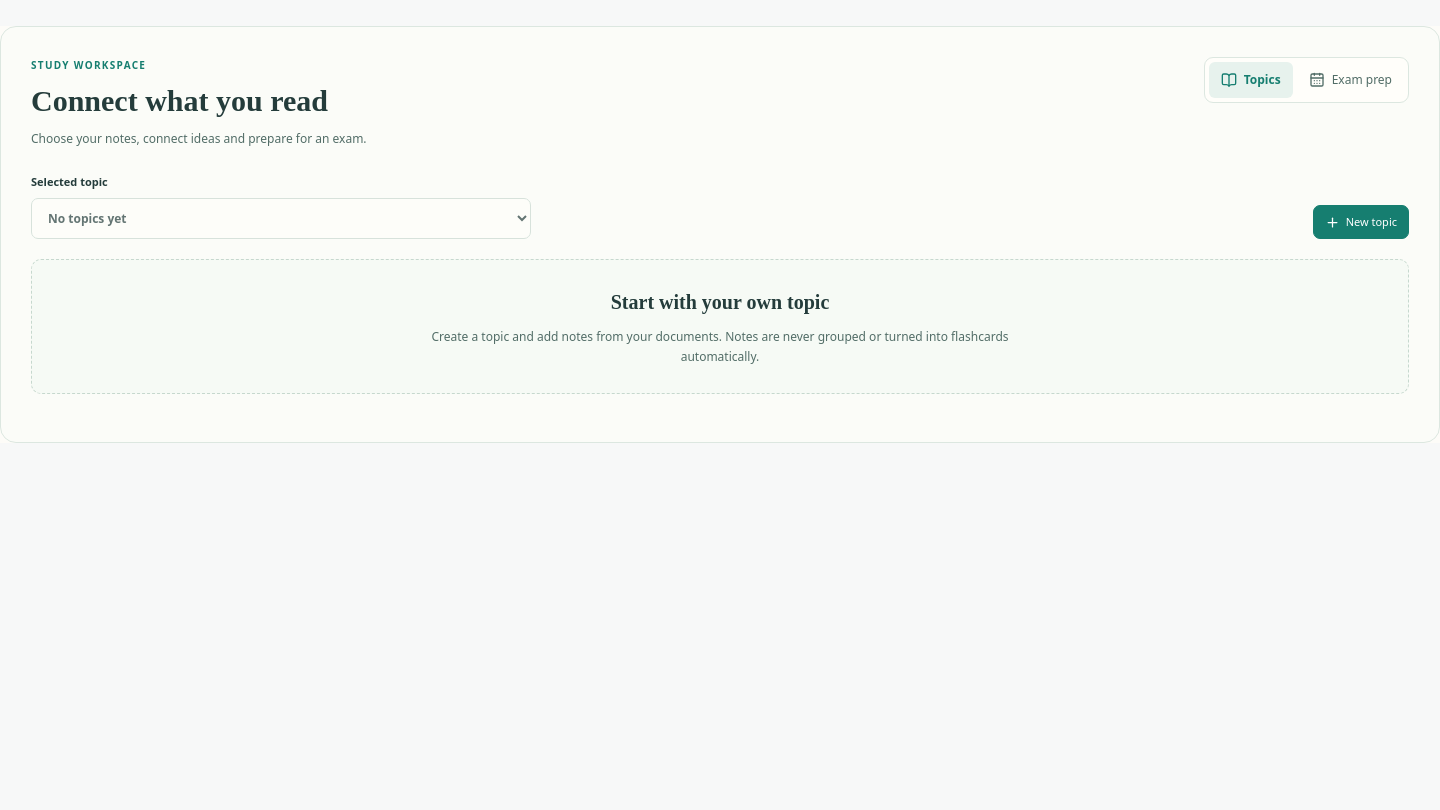
manual study workspace › starts empty and creates only an explicitly named topic
Expected: the heading "Start with your own topic" is shown, [611,291,829,313]
Click the button "New topic": {"x": 1361, "y": 222} [1313,205,1409,239]
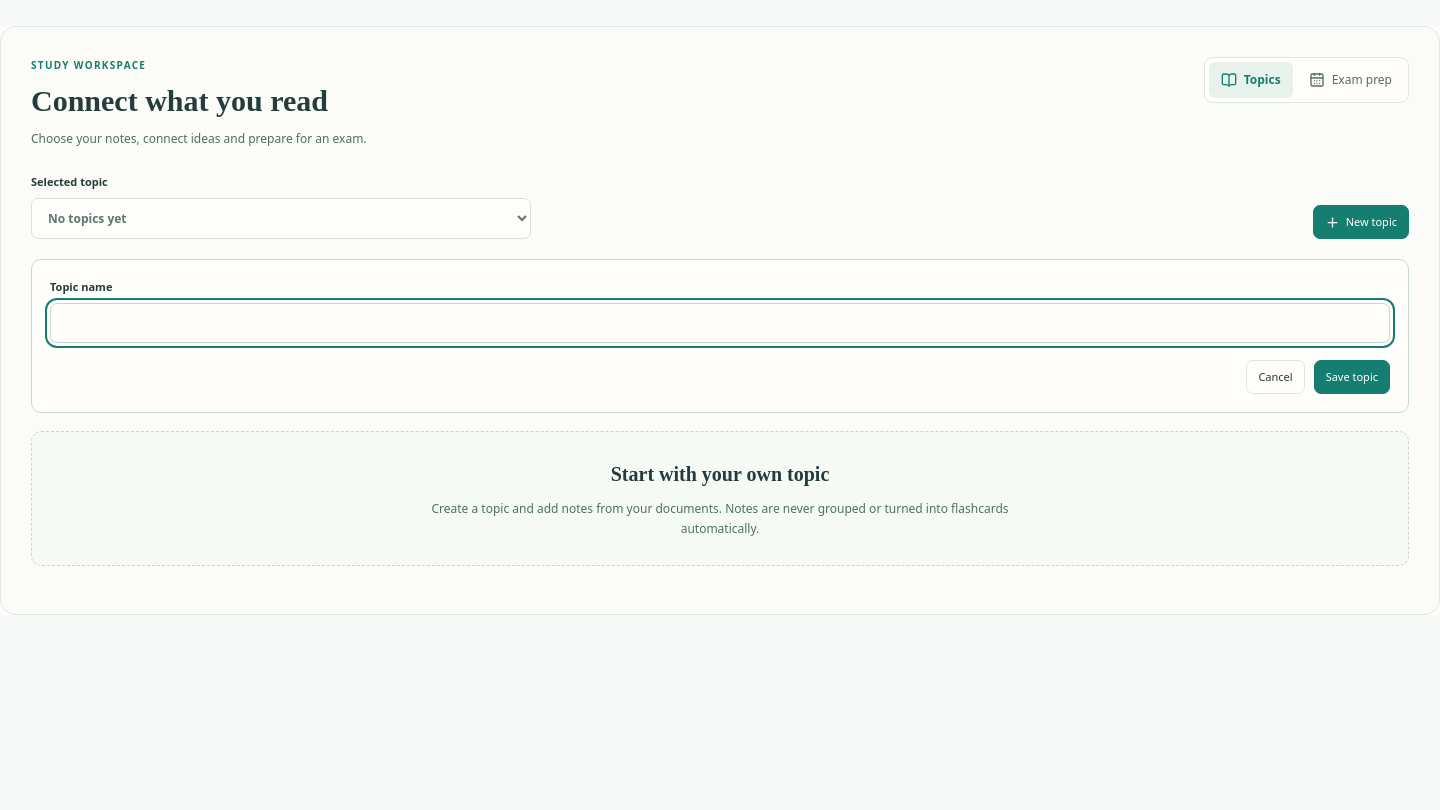
In the field labelled "Topic name": {"x": 720, "y": 323} [50,303,1390,343], type "My selected topic"
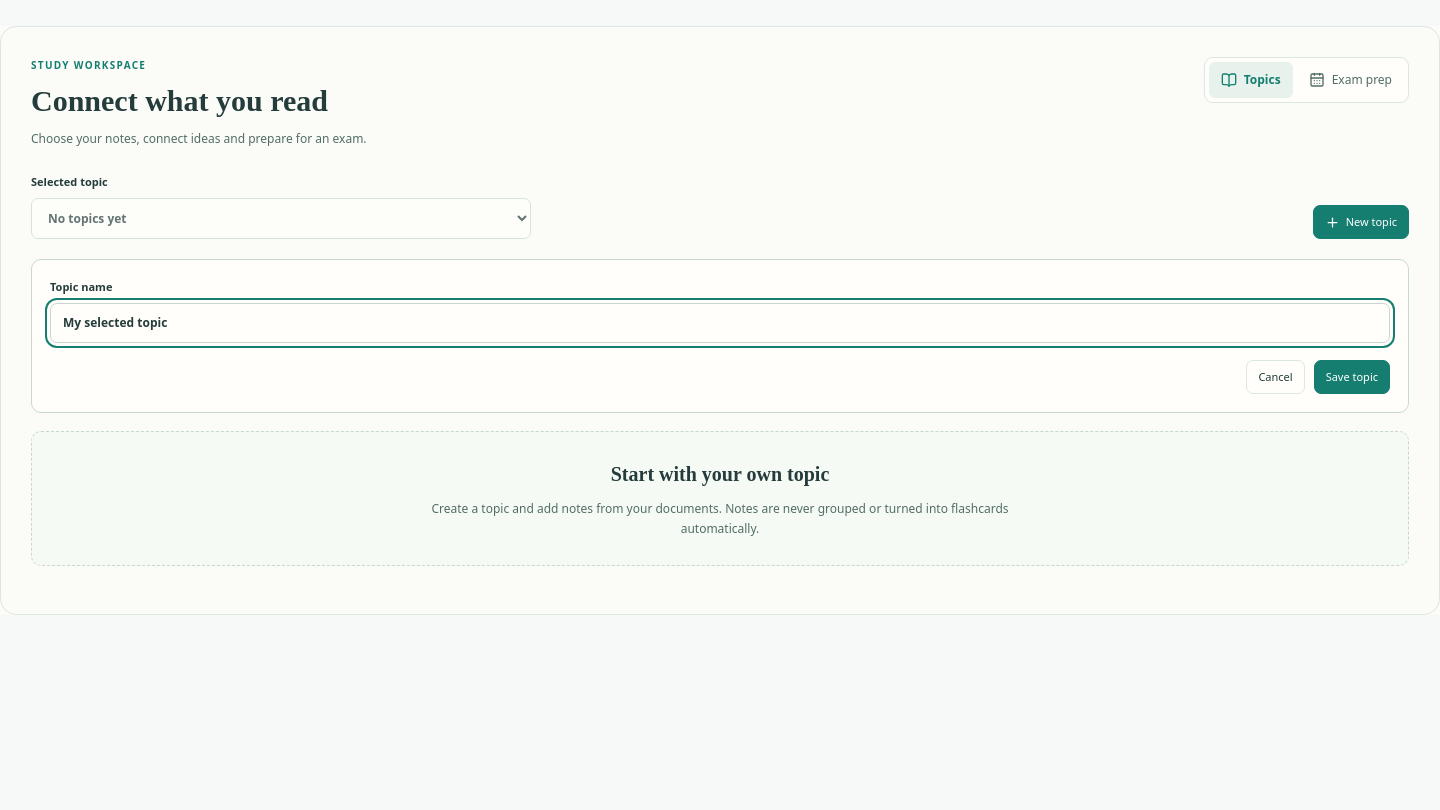
Submit the form named "Create topic", box [31,259,1409,413]
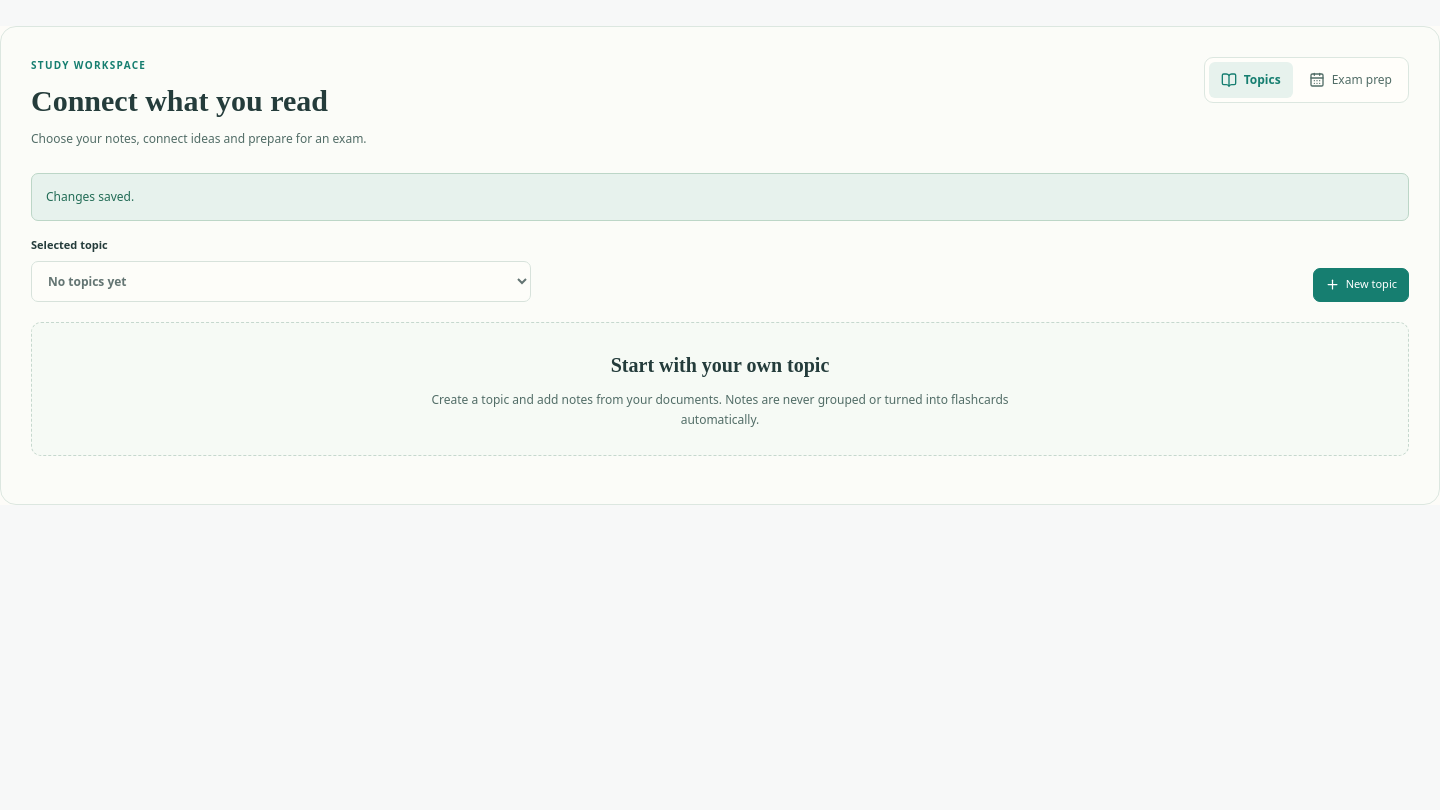
Expected: the text "Changes saved." is shown, [31,173,1409,221]
